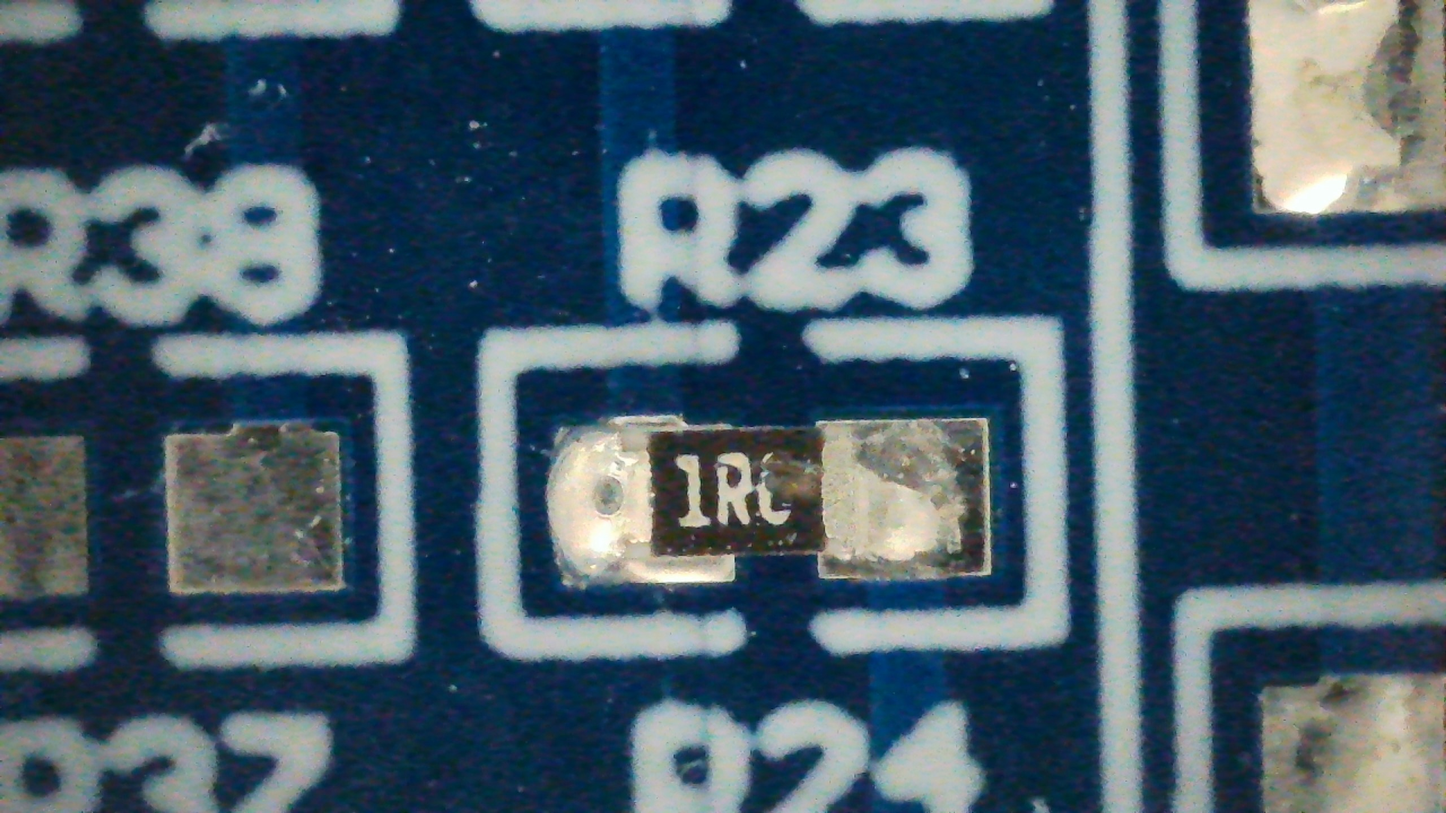OK: (545, 415, 991, 587)
